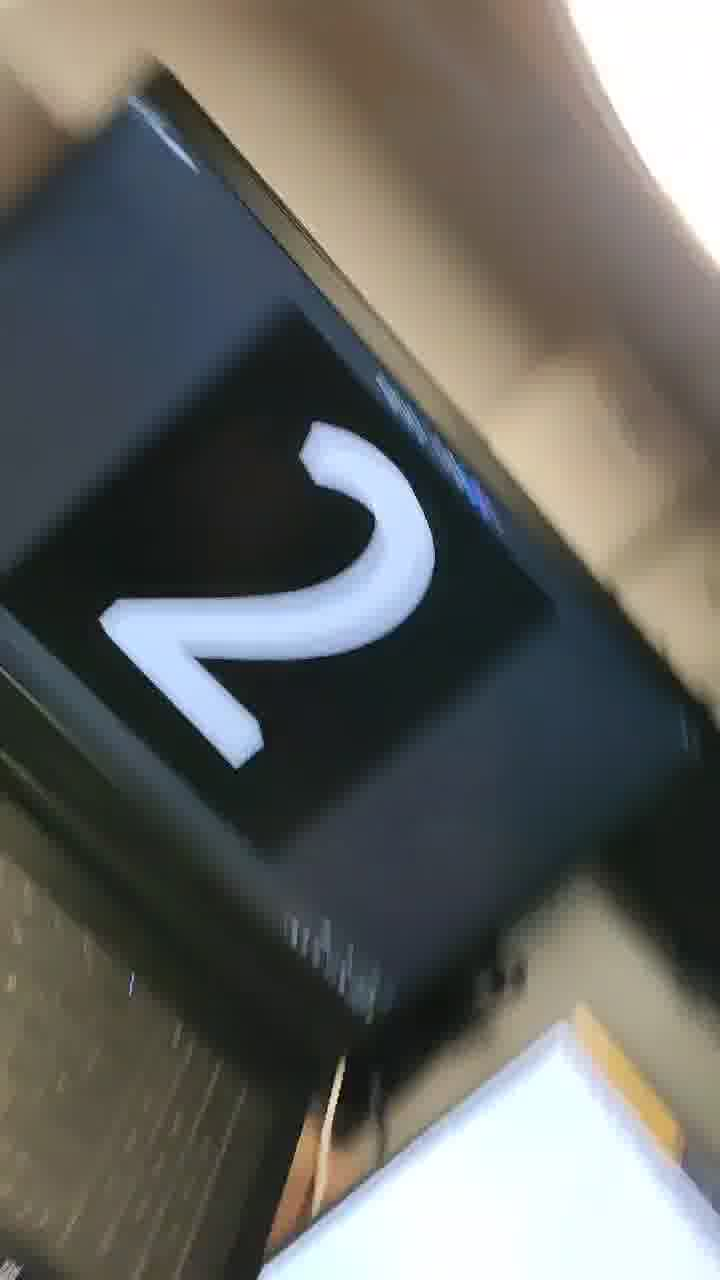two: (57, 344, 416, 776)
